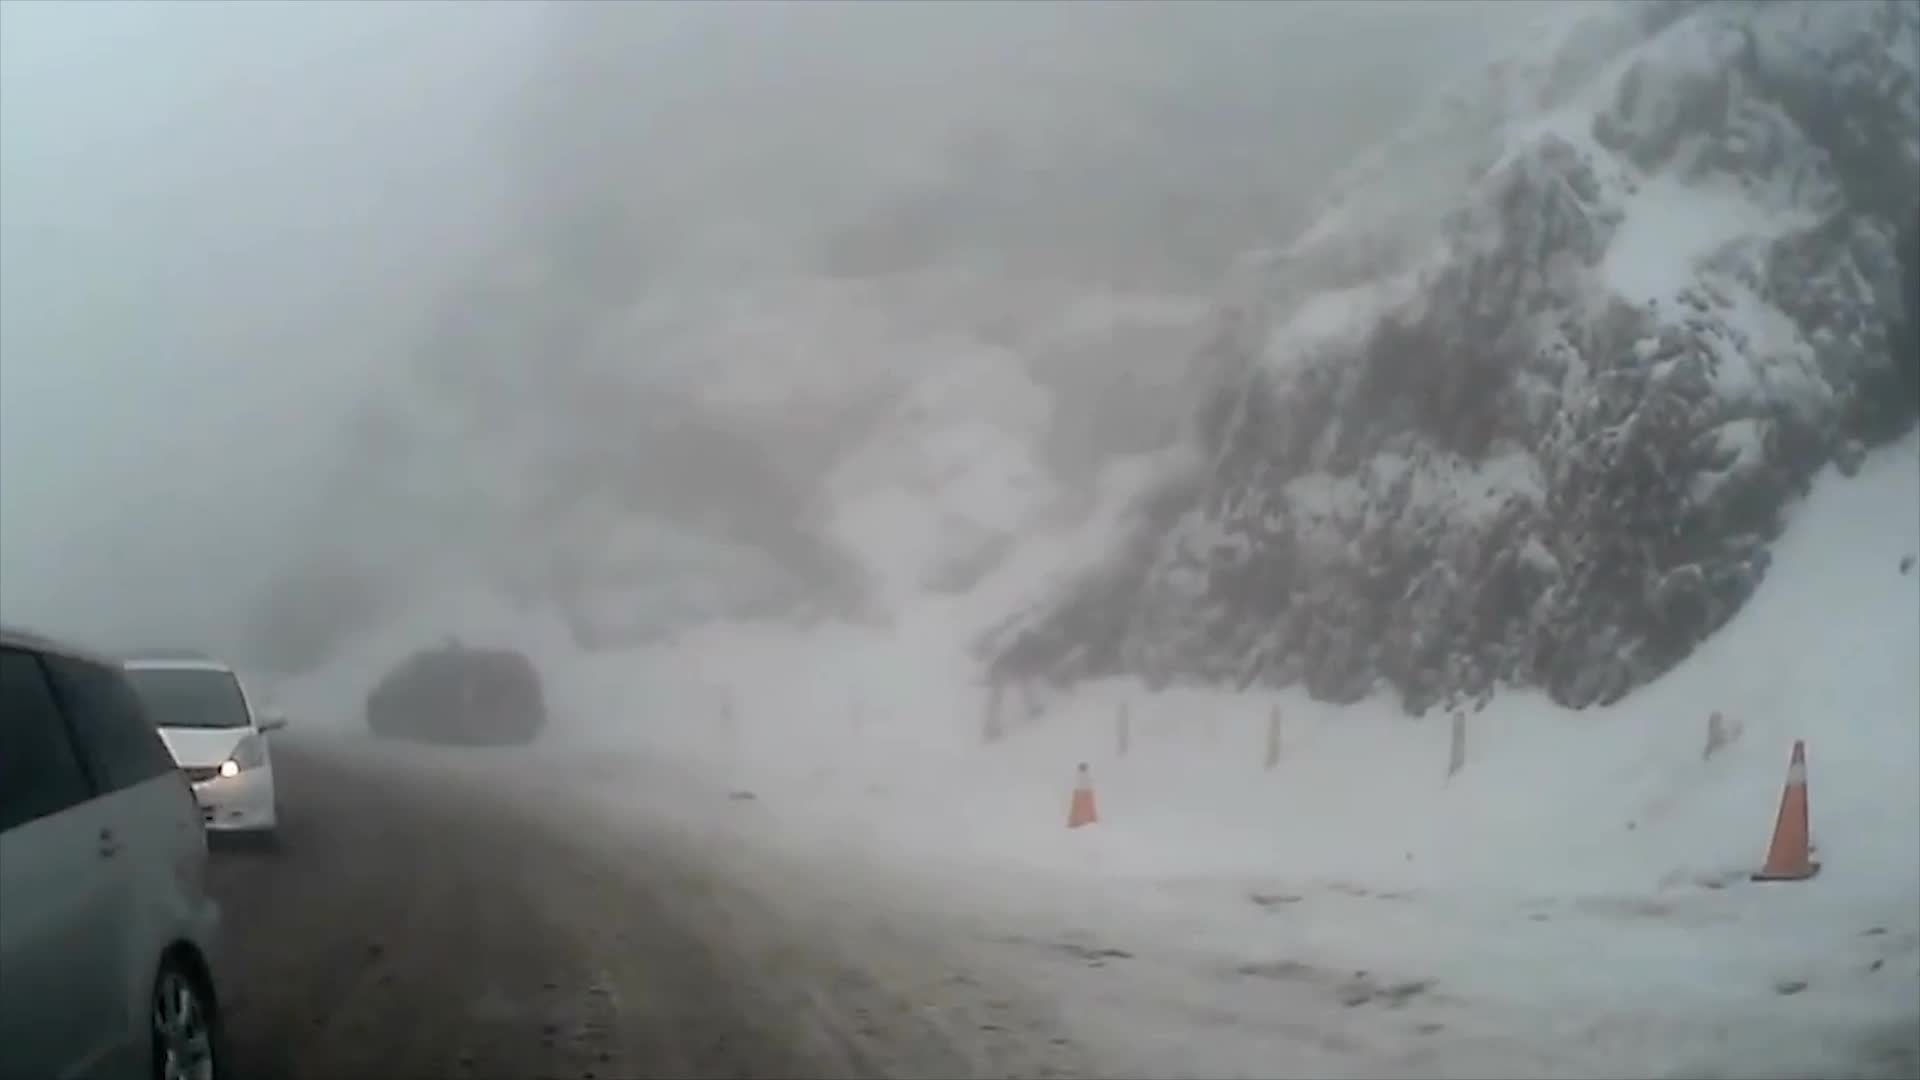vehicle: (0, 626, 229, 1080), (79, 662, 286, 864), (364, 647, 547, 750)
